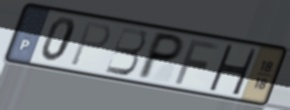0: (38, 16, 77, 64)
B: (103, 25, 148, 78)
F: (172, 37, 223, 87)
H: (206, 42, 259, 97)
P: (134, 30, 188, 81), (67, 20, 114, 68)
